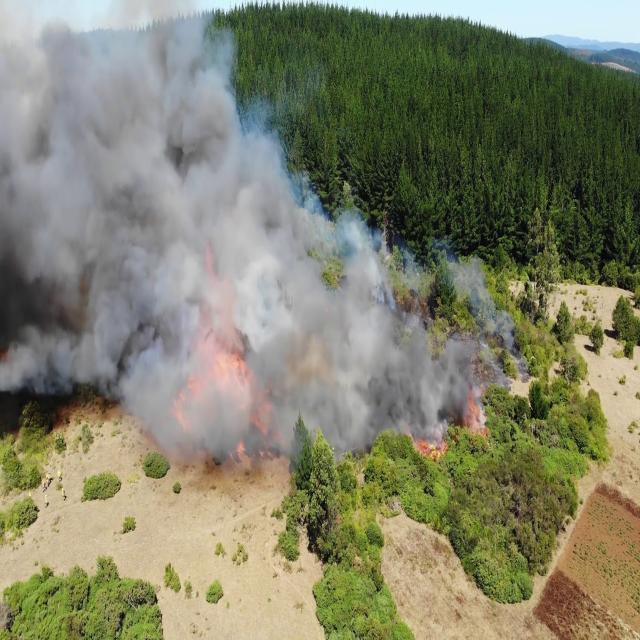Smoke: (0, 0, 473, 470)
